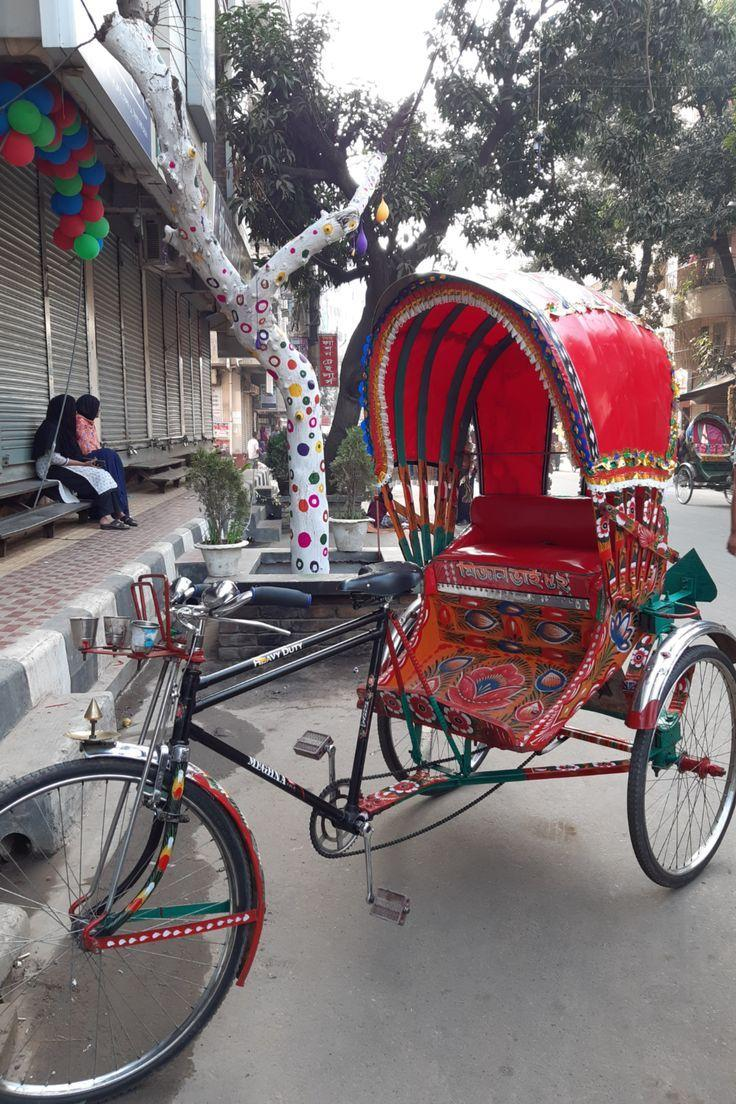Rickshaw: (3, 249, 733, 1101)
